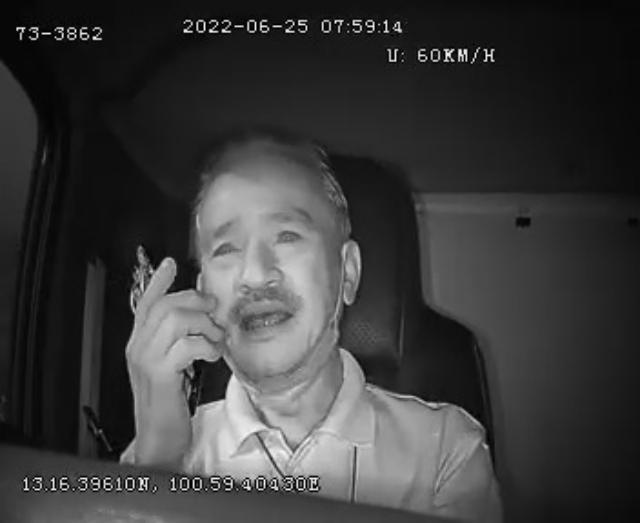PhoneUse: (126, 236, 208, 423)
SafeDriving: (206, 224, 248, 268), (268, 216, 310, 253)
